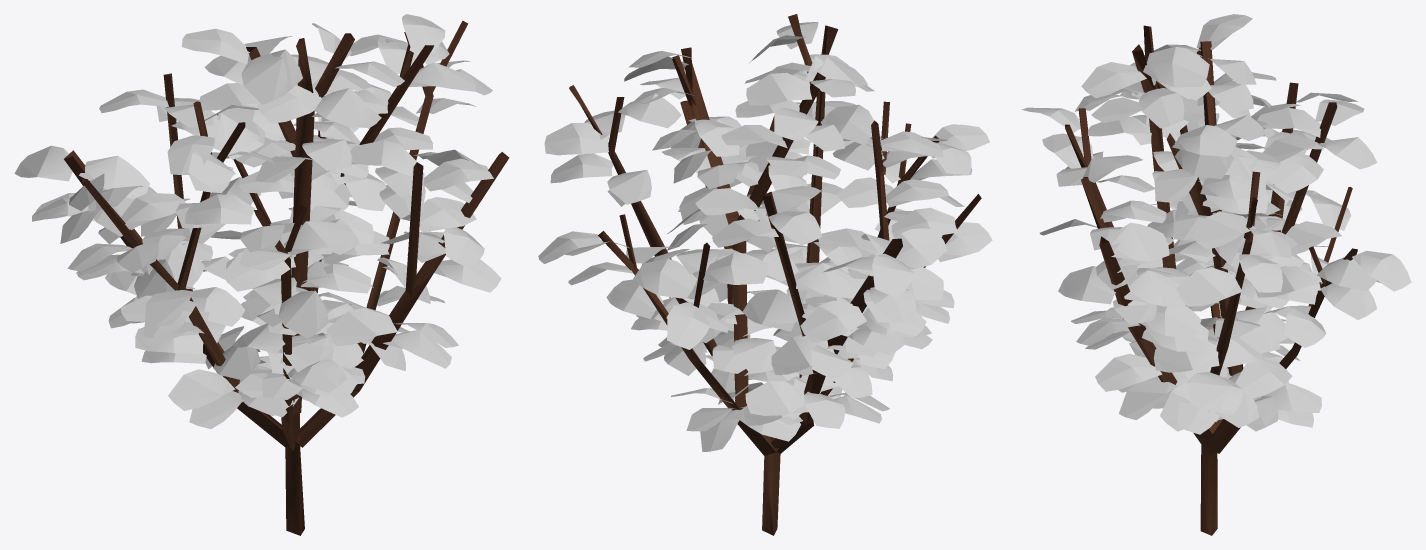
File: Tree_Leaf.fbx
The picture shows the model from 3 angles, left to right: view 1: azimuth 30°, elevation 25°; view 2: azimuth 150°, elevation 25°; view 3: azimuth 270°, elevation 25°; orthographic projection. The views are drawn at different scales.
Parts seen in each view (by area): view 1: leaf.001, BigTreeNokrei; view 2: leaf.001, BigTreeNokrei; view 3: leaf.001, BigTreeNokrei.
Boxes of the visible parts, box(x1,y1,x2,y2) form: leaf.001: box(14, 14, 501, 428); BigTreeNokrei: box(64, 20, 509, 535); leaf.001: box(538, 22, 992, 452); BigTreeNokrei: box(569, 14, 981, 535); leaf.001: box(1021, 14, 1411, 434); BigTreeNokrei: box(1065, 25, 1357, 535).
Bounding box in the file's own units: 1235 × 1444 × 1036.
